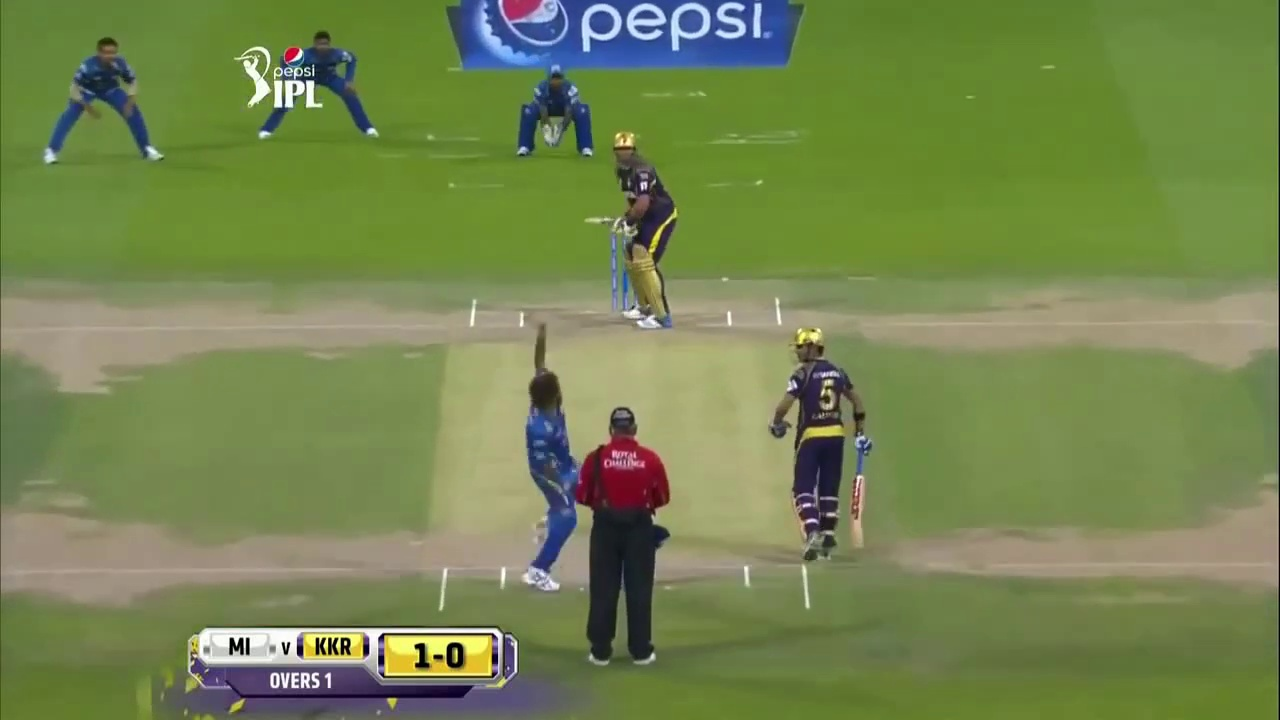bat: (849, 448, 866, 550)
